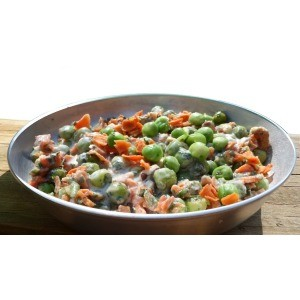green pea_brain food: (144, 110, 209, 188), (90, 167, 127, 202), (58, 123, 93, 158)
